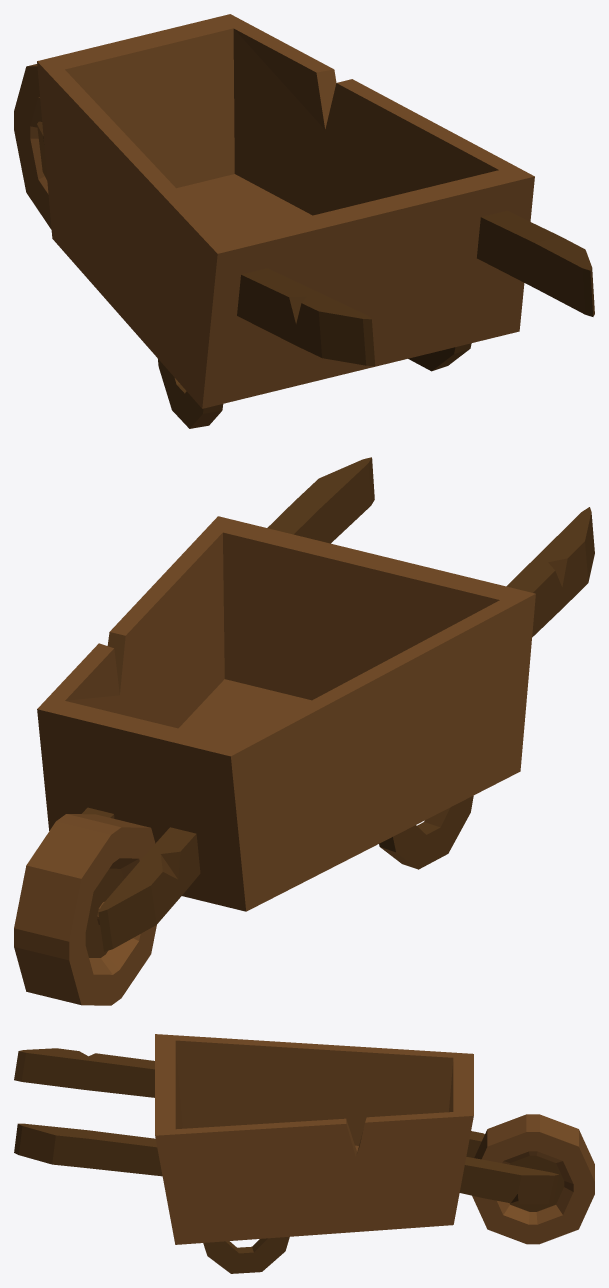
Rendered from F_wheelbarrows.fbx.
The picture shows the model from 3 angles, top to bottom: view 1: azimuth 30°, elevation 25°; view 2: azimuth 150°, elevation 25°; view 3: azimuth 270°, elevation 25°; orthographic projection. The views are drawn at different scales.
Parts seen in each view (by area): view 1: F_wheelbarrows, F_wheelbarrowsWheel; view 2: F_wheelbarrows, F_wheelbarrowsWheel; view 3: F_wheelbarrows, F_wheelbarrowsWheel.
Boxes of the visible parts, box(x1,y1,x2,y2) form: F_wheelbarrows: box(37, 14, 594, 428); F_wheelbarrowsWheel: box(14, 64, 51, 229); F_wheelbarrows: box(37, 457, 594, 951); F_wheelbarrowsWheel: box(14, 814, 156, 1005); F_wheelbarrows: box(14, 1034, 559, 1273); F_wheelbarrowsWheel: box(472, 1114, 594, 1244).
Bounding box in the file's own units: 160 × 110 × 386.
